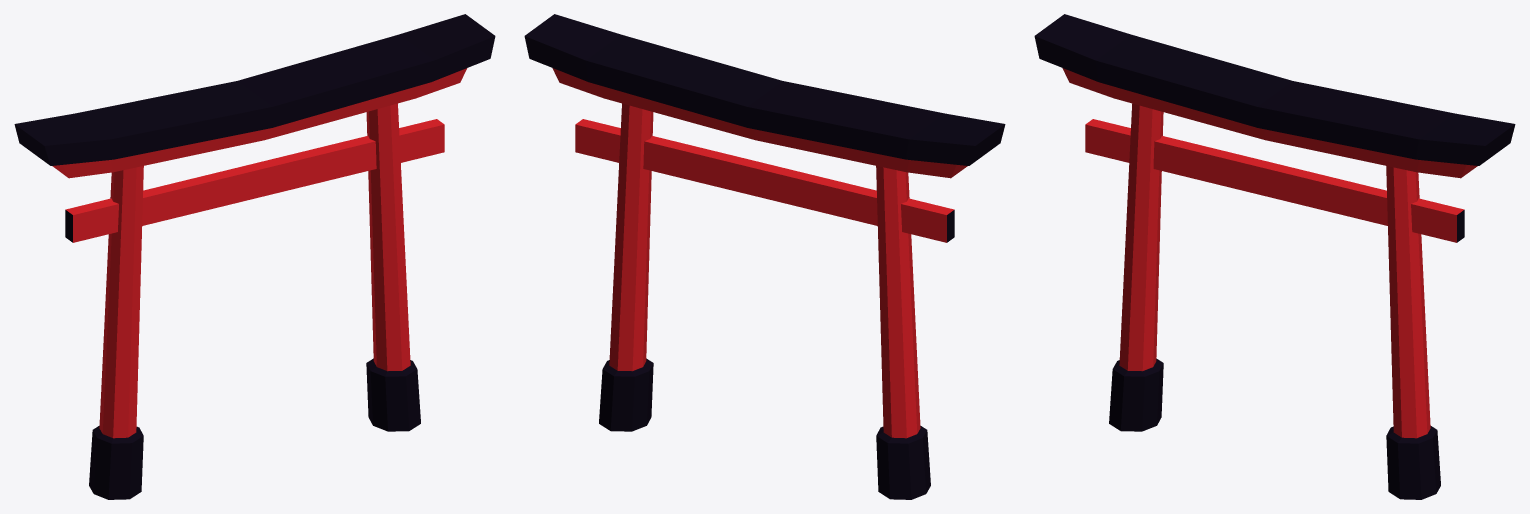
File: ToriiGate.fbx
3 renders of one model, left to right at view 1: azimuth 30°, elevation 25°; view 2: azimuth 150°, elevation 25°; view 3: azimuth 330°, elevation 25°, orthographic.
Visible parts, largest first — view 1: ToriiGate; view 2: ToriiGate; view 3: ToriiGate.
Part boxes in pixels (box(x1,y1,x2,y2)): ToriiGate: box(14, 14, 495, 499); ToriiGate: box(524, 14, 1005, 499); ToriiGate: box(1034, 14, 1515, 499).
Bounding box in the file's own units: 3.4 × 2.7 × 0.4633.
